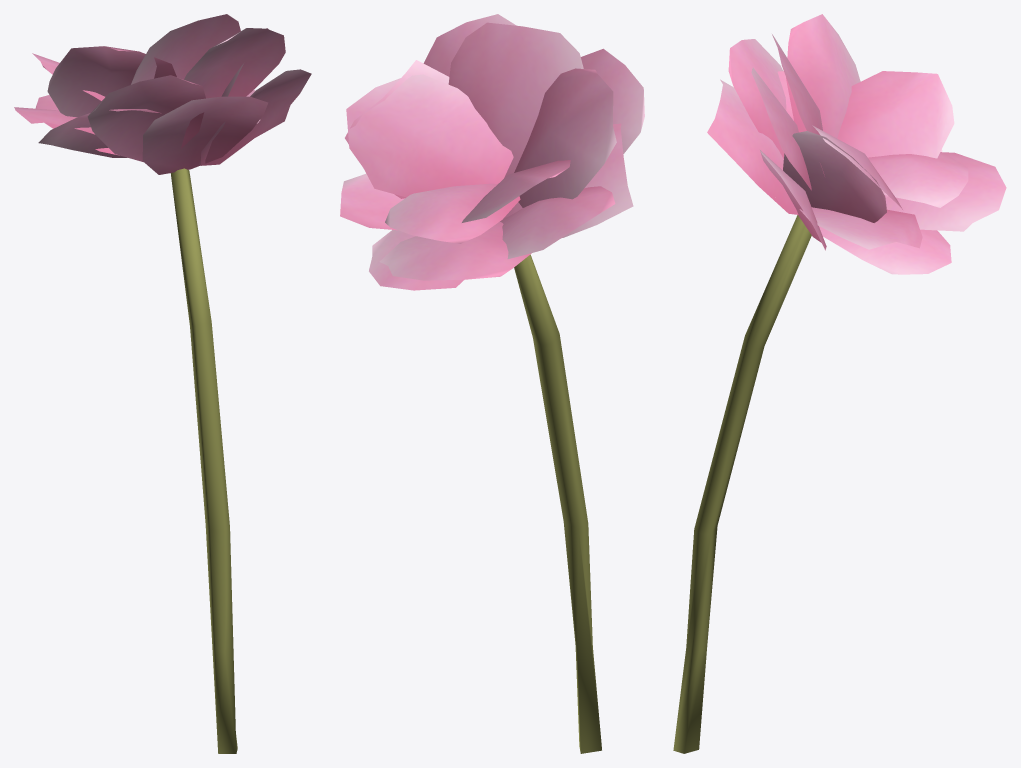
Rendered from redTallSingle.fbx.
3 renders of one model, left to right at view 1: azimuth 30°, elevation 25°; view 2: azimuth 150°, elevation 25°; view 3: azimuth 270°, elevation 25°, orthographic. The views are drawn at different scales.
Visible parts, largest first — view 1: Cylinder.002, Cylinder.000; view 2: Cylinder.002, Cylinder.000; view 3: Cylinder.002, Cylinder.000.
Boxes of the visible parts, box(x1,y1,x2,y2) form: Cylinder.002: box(14, 14, 311, 174); Cylinder.000: box(170, 168, 237, 753); Cylinder.002: box(340, 14, 644, 290); Cylinder.000: box(514, 254, 601, 753); Cylinder.002: box(707, 14, 1006, 274); Cylinder.000: box(673, 215, 811, 753).
Size of the model in its own units: 46.35 by 121 by 51.39.
